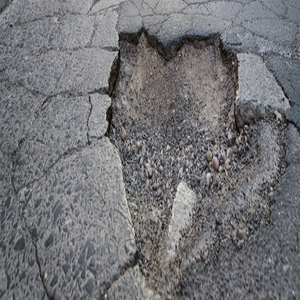pothole: (108, 30, 292, 287)
